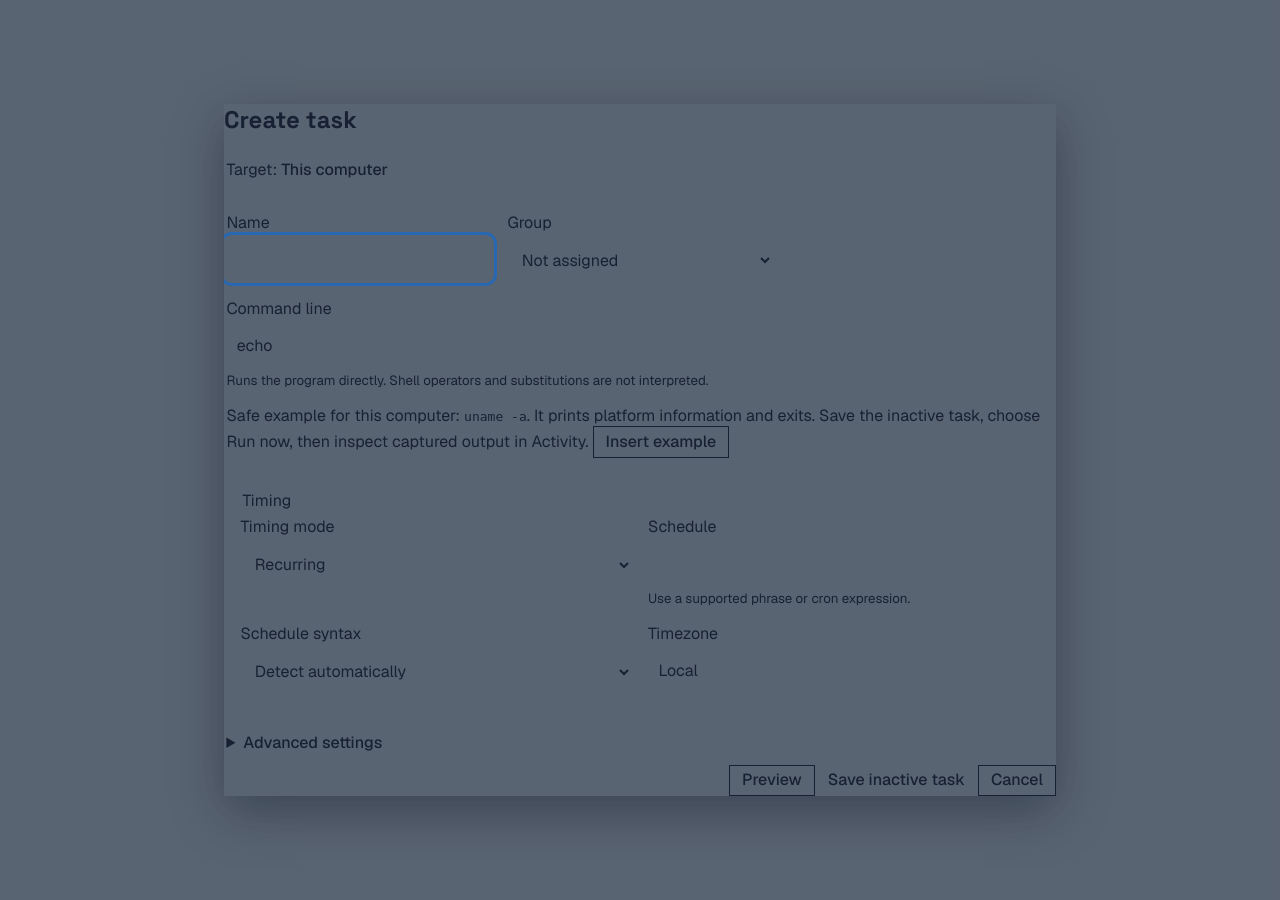
Test: task editor › makes stale overwrite an explicit choice
Click the button "Save inactive task". click: (896, 780)
box: [815,765,978,796]
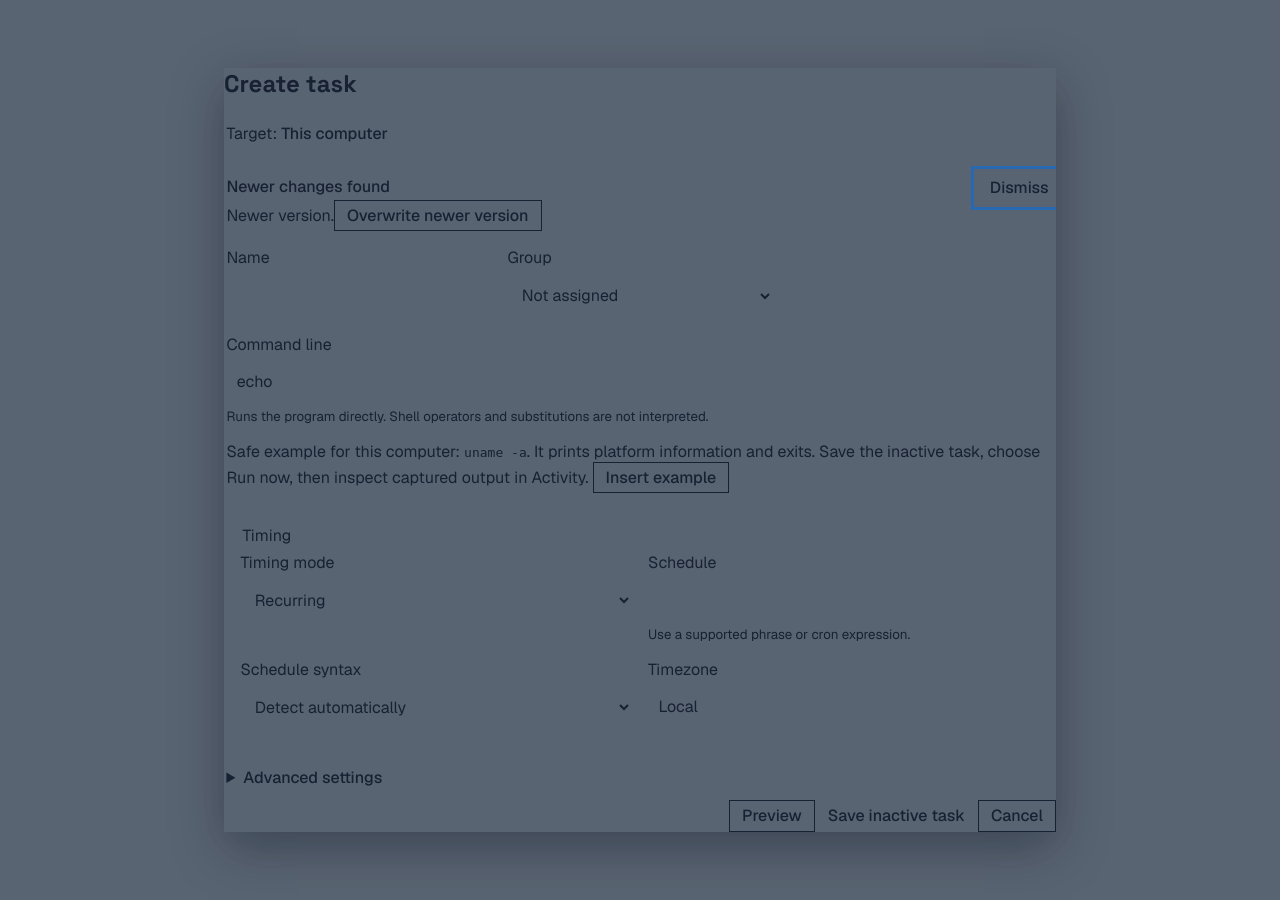
Expected: the button "Overwrite newer version" is shown, [334,200,542,231]
